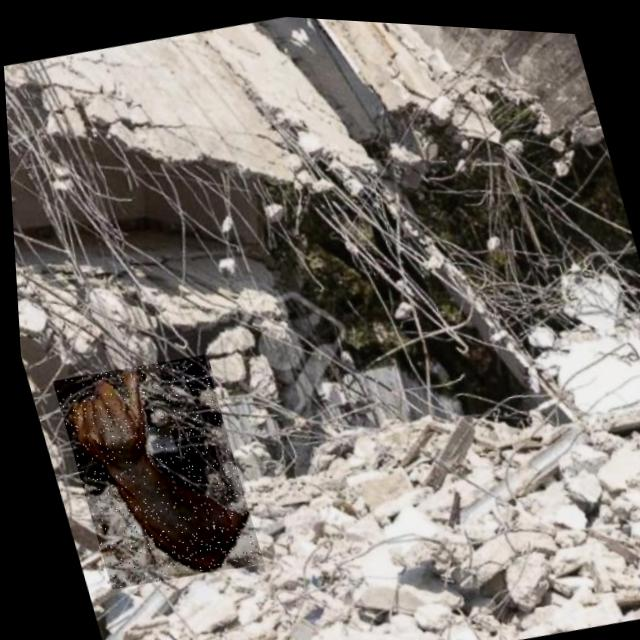Person in Rubble: (46, 345, 258, 595)
